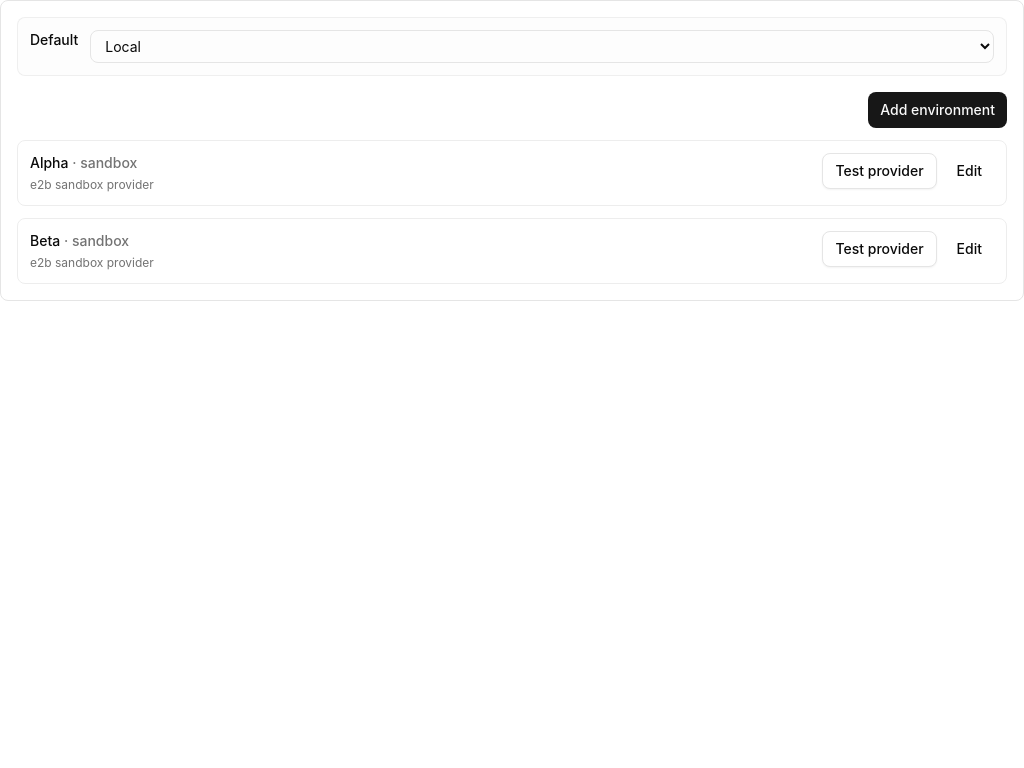
CompanyEnvironments — test provider button › opens the add-environment form in a dialog and closes it on cancel
Click the button "Add environment" at (938, 110), box [868,92,1007,128]
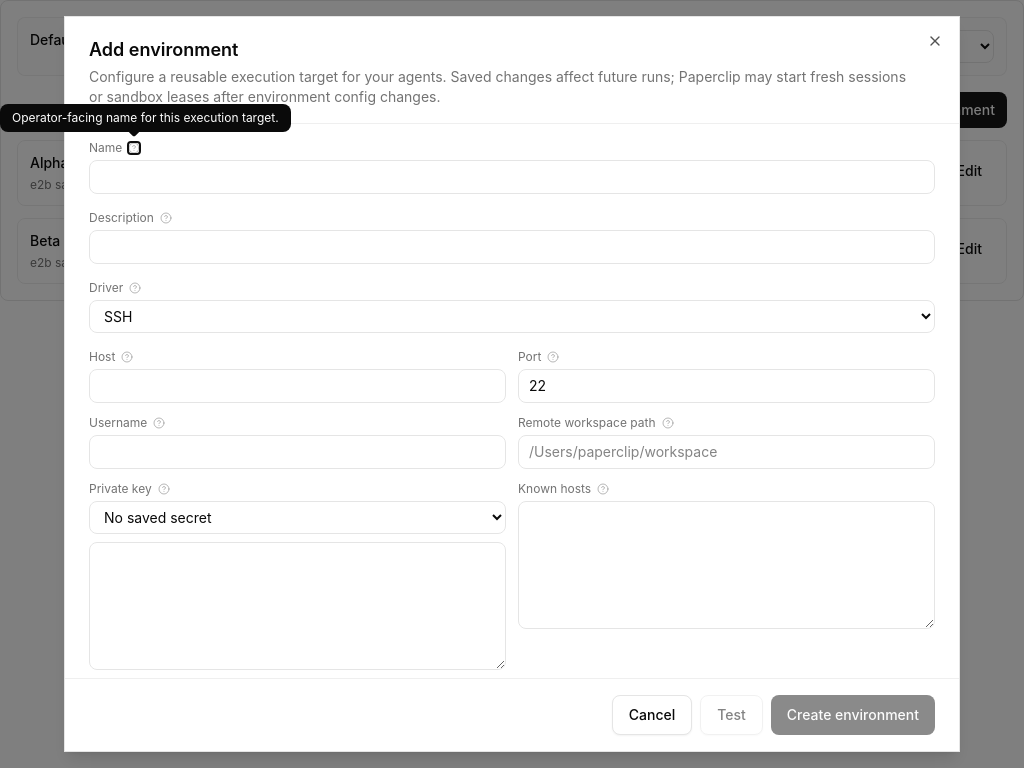
expect the dialog shows "Add environment": met, box [89,39,238,60]
Click the button "Cancel" at (652, 715), box [612,695,692,735]
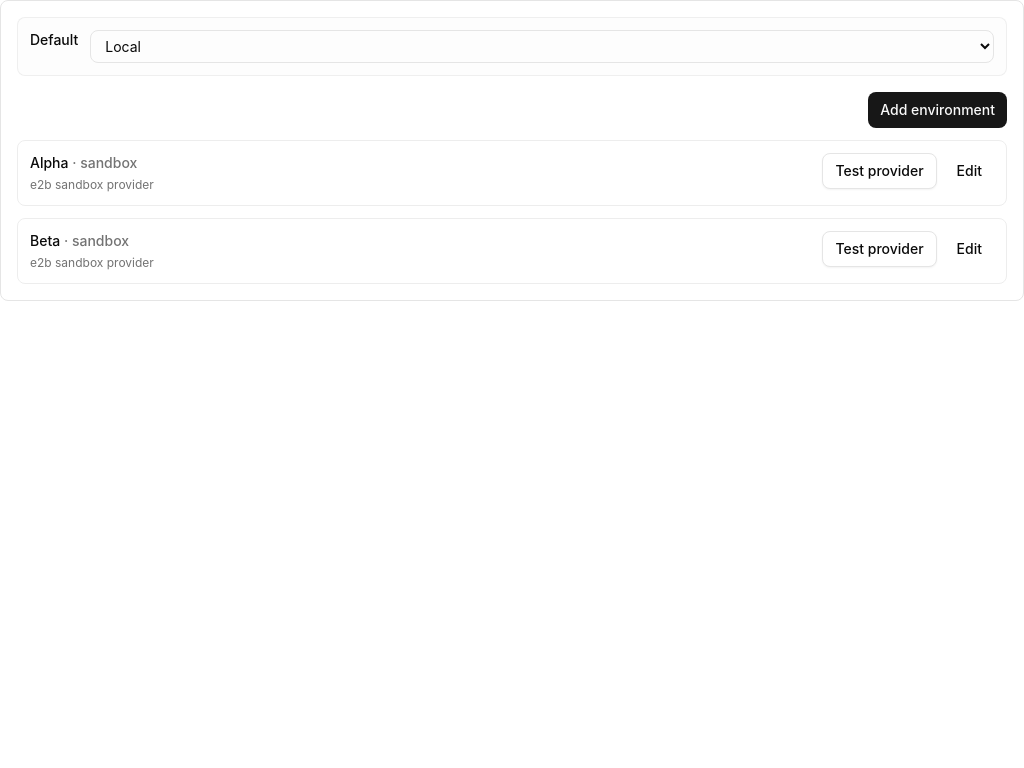
expect the dialog is gone: met
